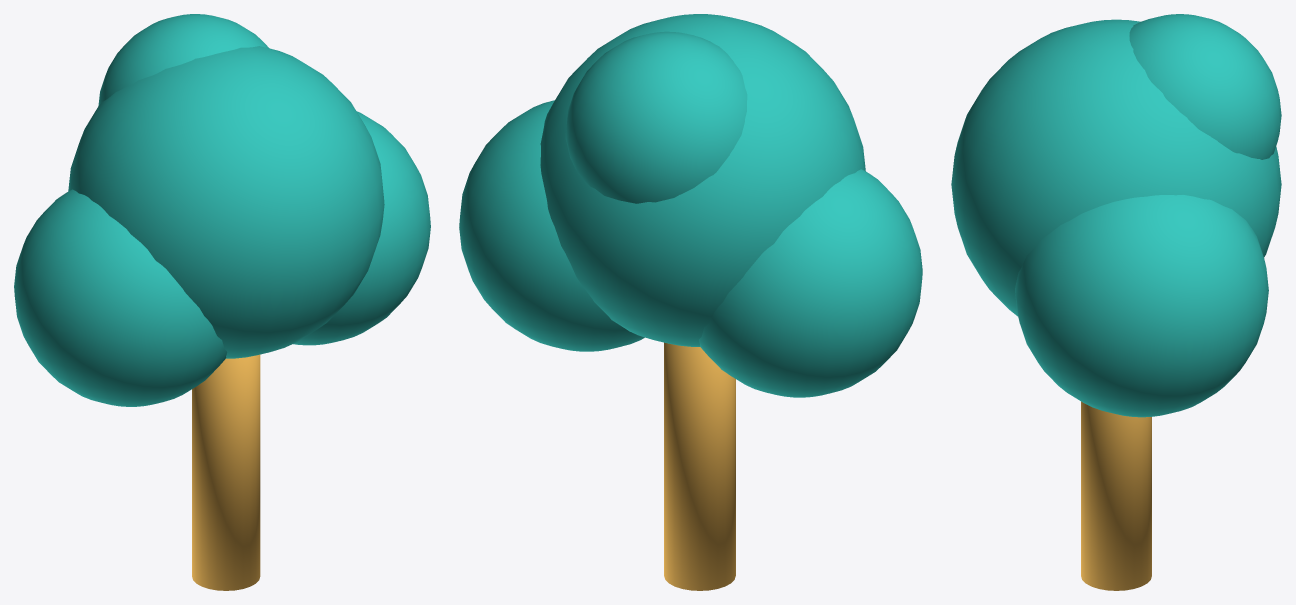
The model's file is tree-quality.glb.
3 views of the same model, side by side, from view 1: azimuth 30°, elevation 25°; view 2: azimuth 150°, elevation 25°; view 3: azimuth 270°, elevation 25° (orthographic). The views are drawn at different scales.
Parts seen in each view (by area): view 1: Trunk; view 2: Trunk; view 3: Trunk.
Boxes of the visible parts, x1,y1,x2,y2 form: Trunk: (14, 14, 430, 590); Trunk: (459, 14, 922, 590); Trunk: (951, 14, 1281, 590).
Bounding box in the file's own units: 1.88 × 2.4 × 1.3.
